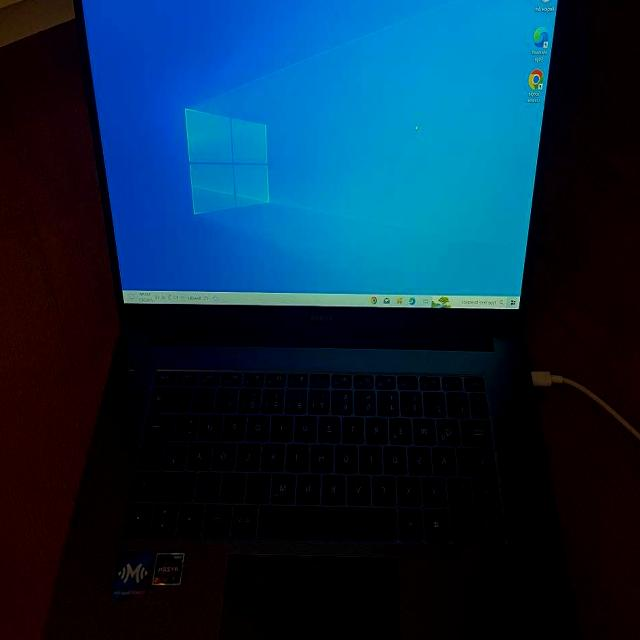0: (240, 386, 262, 412)
1: (449, 390, 471, 416)
2: (426, 389, 448, 415)
3: (402, 388, 424, 414)
4: (379, 388, 400, 414)
5: (355, 388, 377, 414)
6: (334, 387, 354, 413)
7: (310, 387, 332, 411)
8: (287, 386, 309, 412)
9: (263, 386, 285, 412)
a: (435, 444, 458, 473)
accent: (193, 386, 215, 410)
ae: (190, 439, 214, 468)
alt-left: (400, 507, 425, 539)
altgr-right: (234, 502, 259, 534)
b: (324, 472, 348, 502)
c: (374, 473, 398, 503)
caret: (472, 391, 490, 415)
comma: (248, 471, 272, 501)
d: (385, 443, 408, 472)
del: (152, 386, 192, 410)
e: (392, 414, 414, 442)
enter: (139, 411, 177, 468)
f: (362, 443, 384, 471)
g: (337, 442, 359, 471)
h: (312, 441, 335, 469)
hash: (164, 439, 189, 467)
i: (273, 413, 295, 439)
j: (289, 440, 311, 469)
k: (263, 440, 286, 468)
keyboard: (120, 368, 508, 547)
l: (239, 440, 262, 468)
less: (449, 475, 474, 505)
m: (273, 471, 297, 501)
minus: (198, 470, 223, 499)
n: (298, 472, 323, 502)
o: (248, 413, 271, 440)
oe: (214, 440, 238, 468)
p: (225, 412, 247, 439)
plus: (176, 411, 200, 438)
point: (223, 470, 247, 500)
q: (438, 416, 462, 443)
r: (367, 415, 390, 441)
s: (410, 444, 433, 473)
shift-left: (475, 476, 503, 506)
shift-lock: (459, 445, 497, 474)
shift-right: (134, 469, 197, 499)
space: (260, 503, 399, 537)
ss: (216, 386, 240, 410)
strg-left: (478, 508, 507, 540)
strg-right: (205, 502, 233, 534)
t: (344, 414, 366, 440)
tab: (463, 417, 494, 444)
u: (297, 413, 319, 440)
ue: (200, 411, 224, 439)
v: (349, 473, 373, 502)
w: (415, 415, 437, 443)
x: (399, 474, 423, 504)
y: (425, 474, 449, 504)
z: (320, 413, 342, 440)
